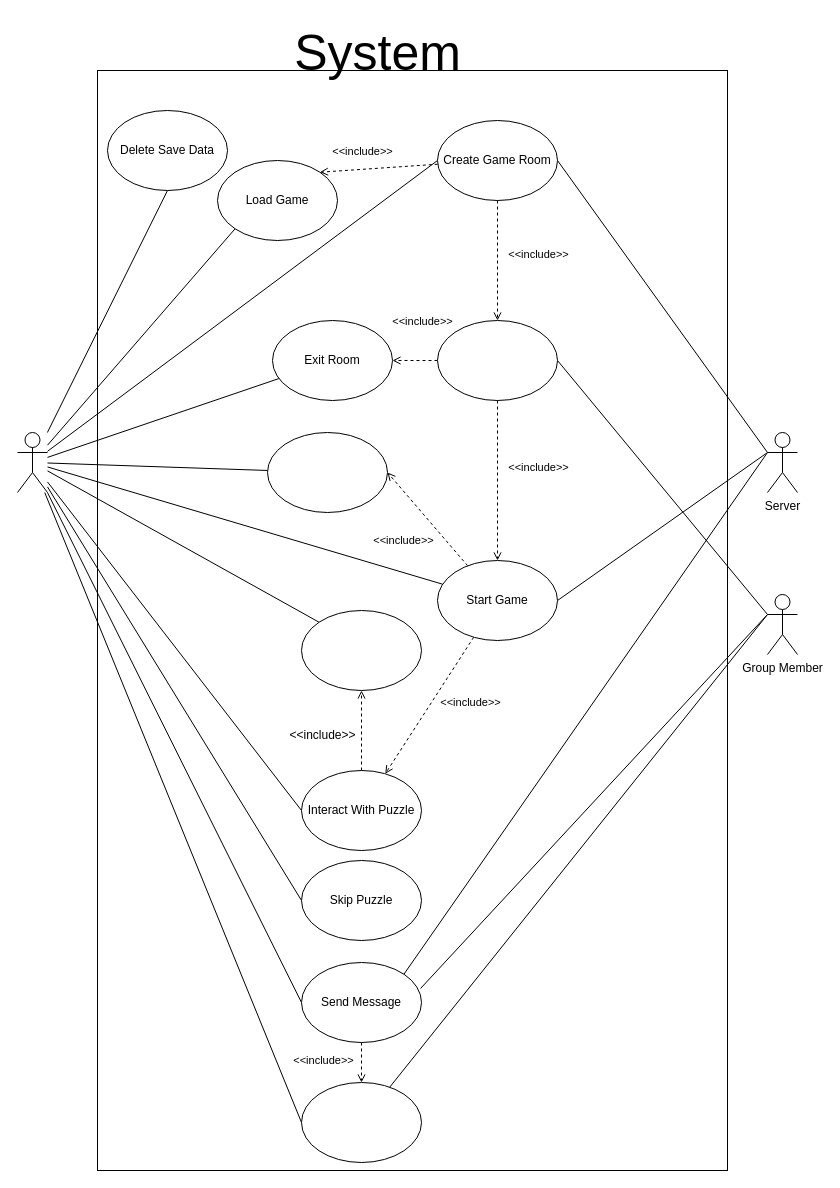
The diagram is 840 pixels wide and 1188 high, and some of its shapes have lost their labels. The box of each missing label's shape, as (x1, y1, x2, y2) in pixels:
Join Game: (436, 320, 558, 400)
Read Message: (300, 1082, 422, 1162)
Request Hint: (300, 610, 422, 690)
Save Game: (266, 432, 388, 512)
User: (16, 432, 48, 492)
